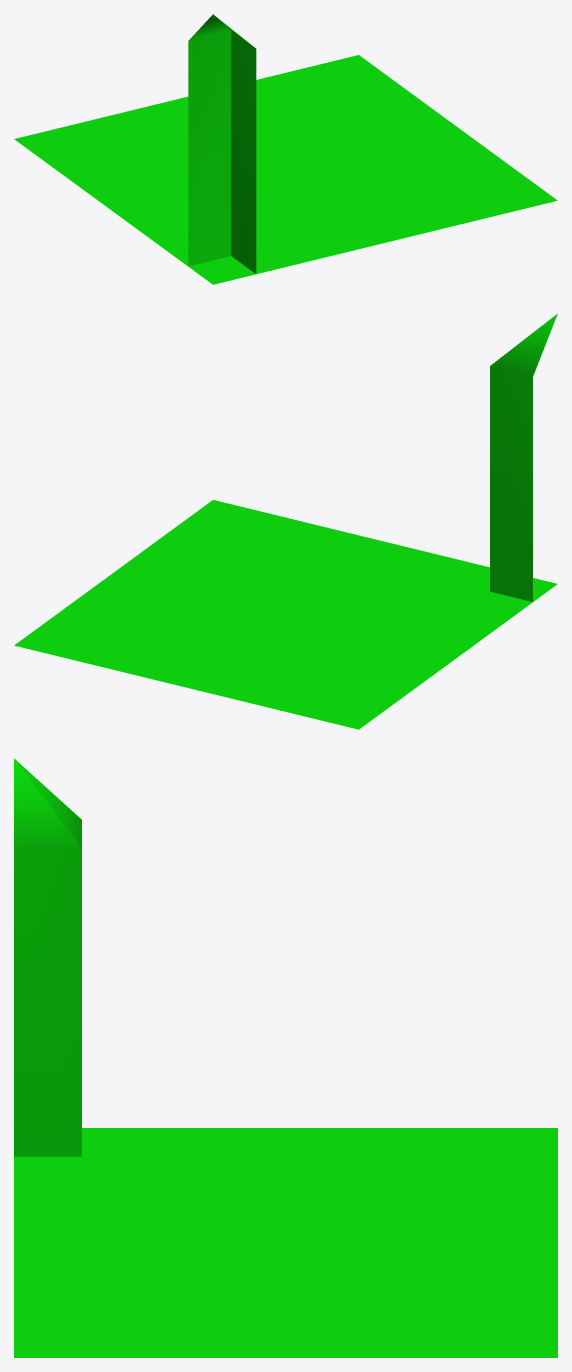
File: mesh_hedge_COUT.fbx
The picture shows the model from 3 angles, top to bottom: view 1: azimuth 30°, elevation 25°; view 2: azimuth 150°, elevation 25°; view 3: azimuth 270°, elevation 25°; orthographic projection. The views are drawn at different scales.
Parts seen in each view (by area): view 1: mesh_hedge_COUT; view 2: mesh_hedge_COUT; view 3: mesh_hedge_COUT.
Part boxes in pixels (left/top/right/bottom): mesh_hedge_COUT: left=14, top=14, right=557, bottom=284; mesh_hedge_COUT: left=14, top=313, right=557, bottom=729; mesh_hedge_COUT: left=14, top=758, right=557, bottom=1357.
Size of the model in its own units: 400 by 300 by 400.
